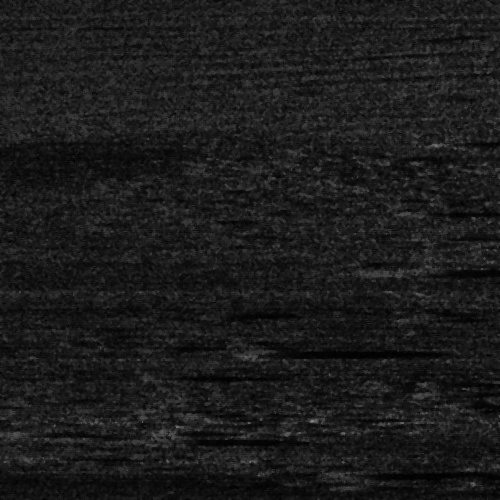object: (378, 265, 471, 276), (307, 468, 400, 477), (220, 346, 293, 357), (101, 435, 184, 444), (127, 372, 190, 379), (398, 209, 461, 214), (415, 138, 456, 143), (193, 309, 234, 314)
shadow: (257, 346, 414, 357), (354, 468, 500, 477), (143, 435, 246, 444), (425, 265, 500, 276), (158, 372, 243, 379), (430, 209, 500, 214), (214, 309, 279, 314), (436, 138, 500, 143)
